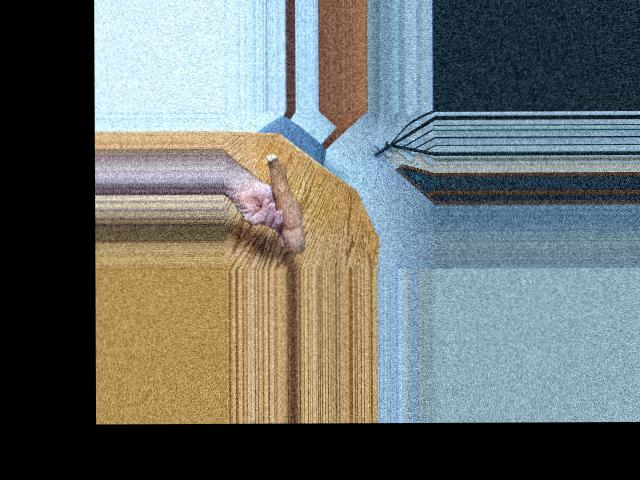sweet_potato: (263, 153, 307, 254)
